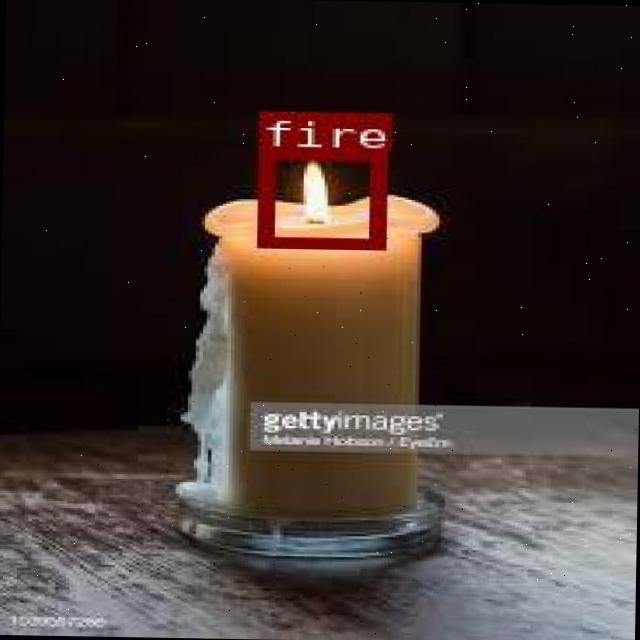fire: (254, 147, 383, 247)
